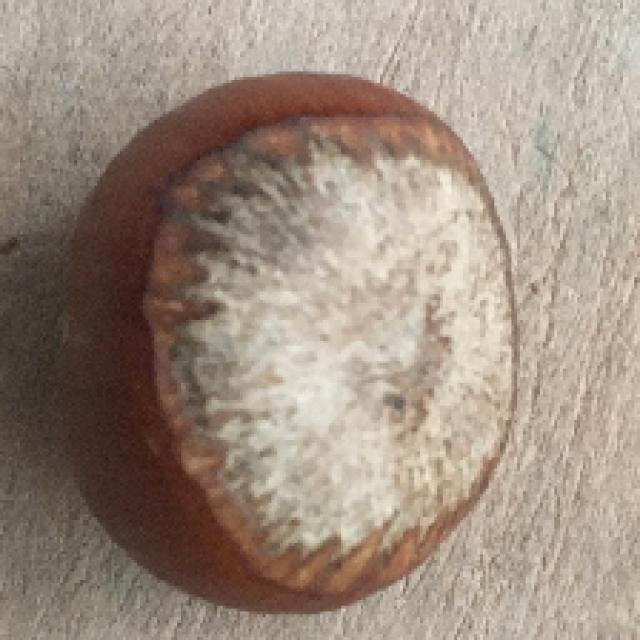QualityHazelnut: (52, 68, 526, 621)
